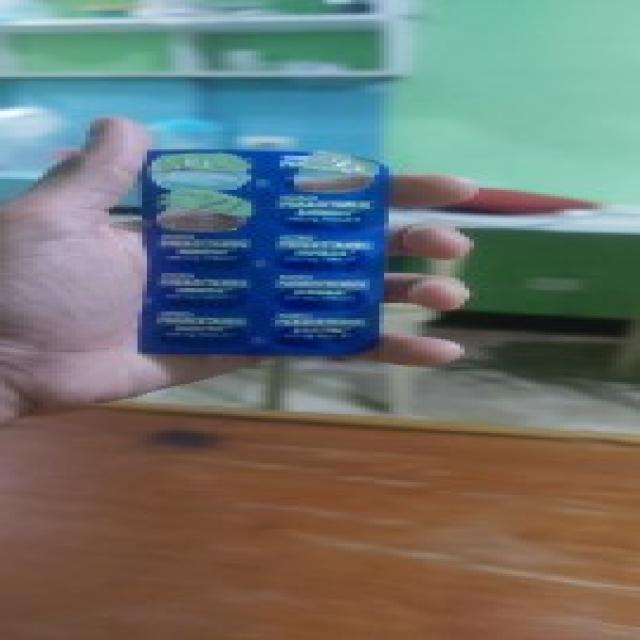Cacat: (140, 148, 382, 360)
Kemasan: (144, 150, 258, 238), (278, 152, 374, 199)
